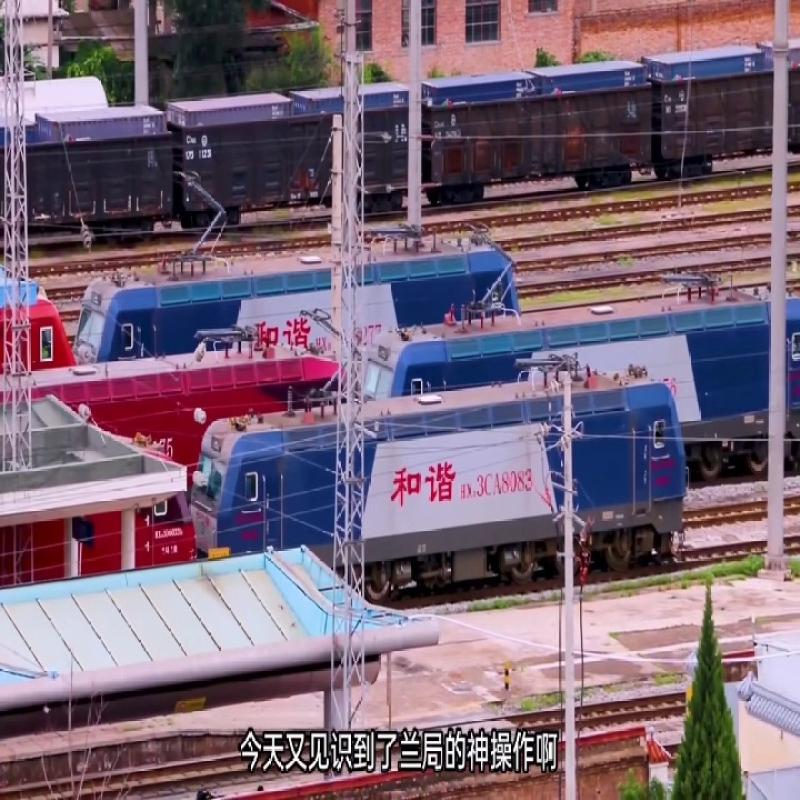train: (207, 409, 701, 572), (76, 274, 532, 355)
